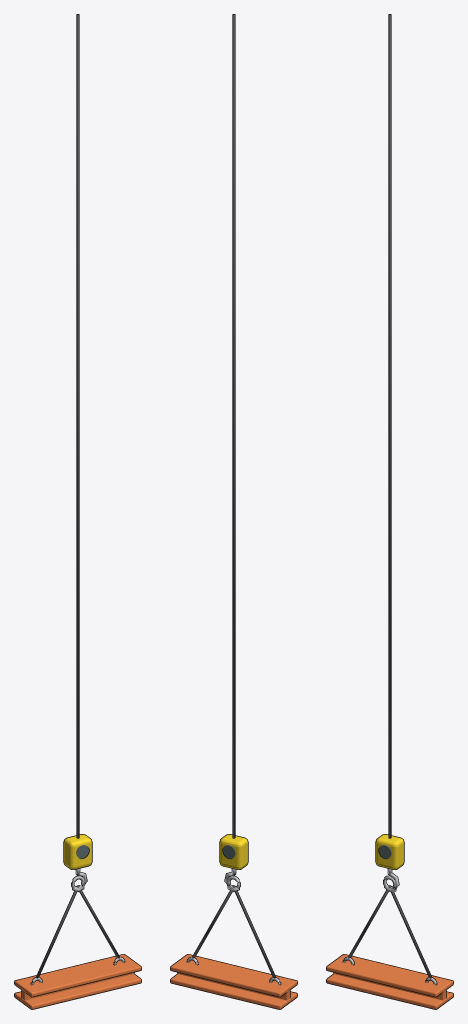
The model's file is Beam_Short.fbx.
3 renders of one model, left to right at view 1: azimuth 30°, elevation 25°; view 2: azimuth 150°, elevation 25°; view 3: azimuth 330°, elevation 25°, orthographic.
Parts seen in each view (by area): view 1: Beam_Short; view 2: Beam_Short; view 3: Beam_Short.
Boxes of the visible parts, x1,y1,x2,y2 form: Beam_Short: (14, 14, 141, 1009); Beam_Short: (170, 14, 297, 1009); Beam_Short: (326, 14, 453, 1009).
Size of the model in its own units: 8.08 by 67.81 by 2.28.
